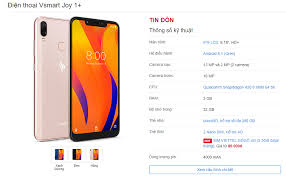vsmart: (67, 15, 124, 145)
